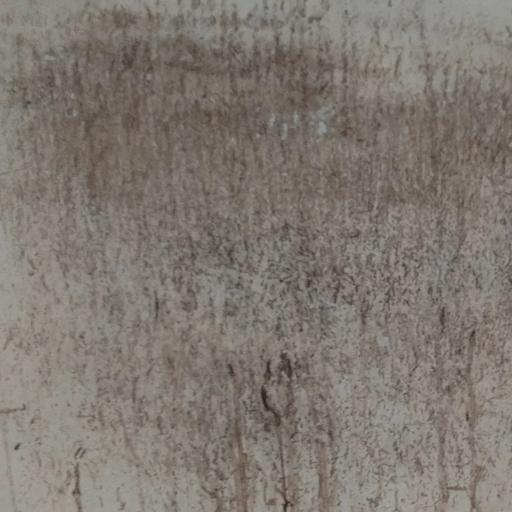stain: (18, 4, 512, 512)
